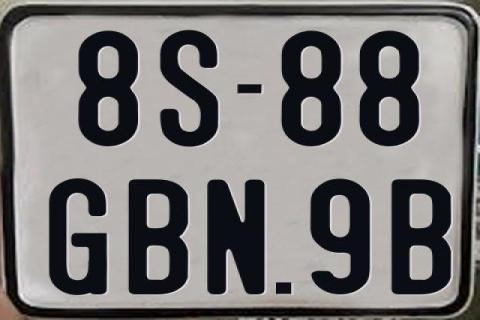0: (75, 29, 141, 149), (358, 30, 422, 150), (310, 178, 374, 296), (278, 30, 340, 146)
B: (128, 180, 193, 298), (388, 178, 448, 294)
G: (46, 179, 107, 297)
N: (205, 177, 267, 297)
S: (159, 27, 220, 149)
